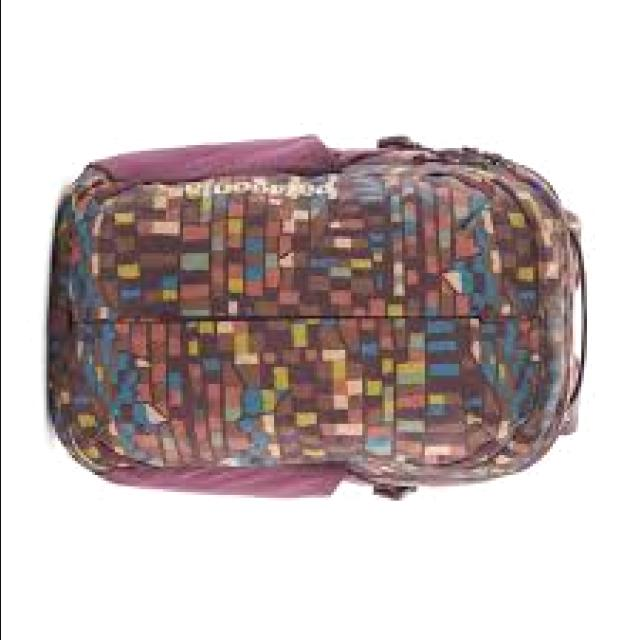backpack: (50, 132, 590, 502)
